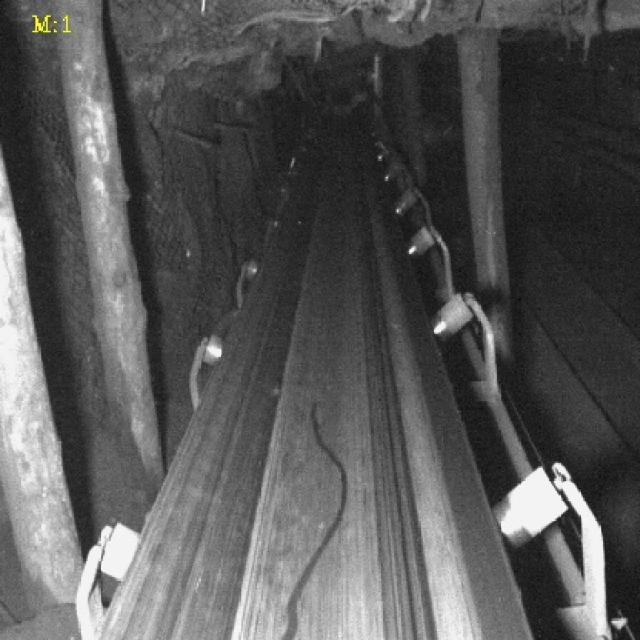bolt: (282, 401, 351, 637)
